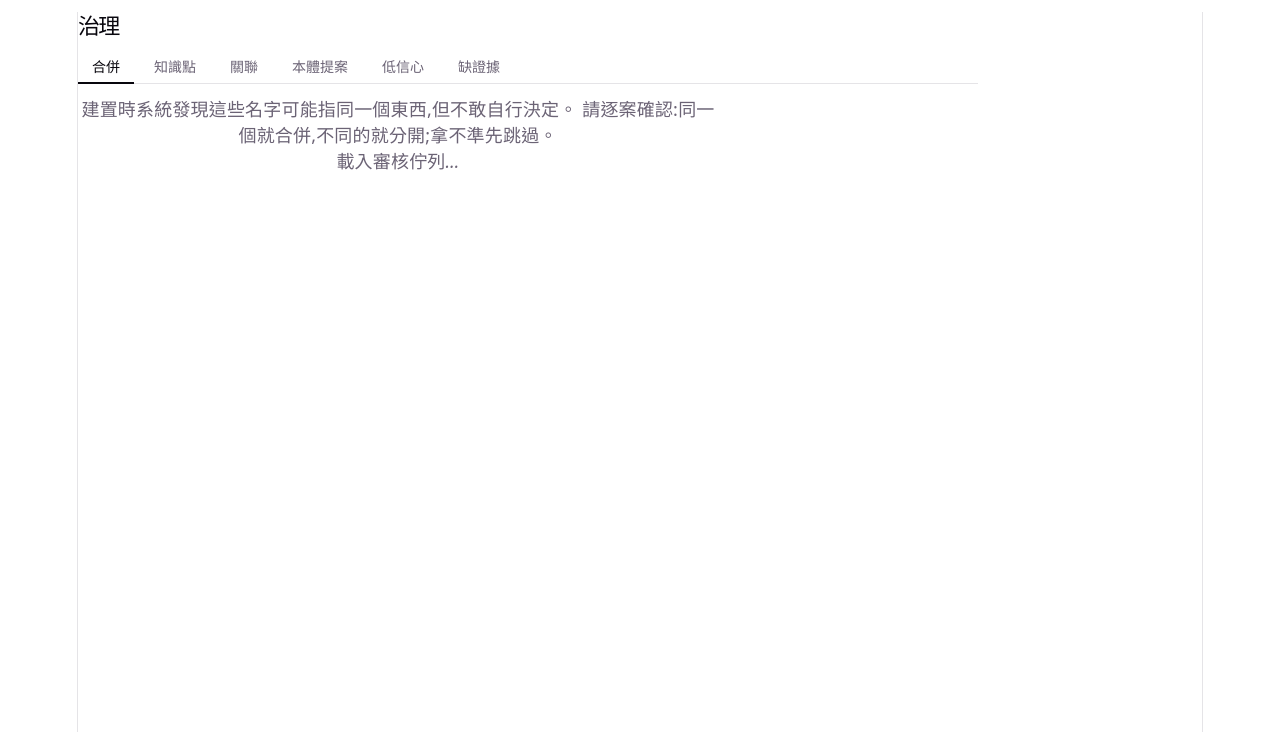
Test: ReviewQueue › lists needs_review relations on the 關聯 tab from /relations (GOV2-fe-2)
Click the tab "關聯" at (244, 67), box [216,50,272,84]
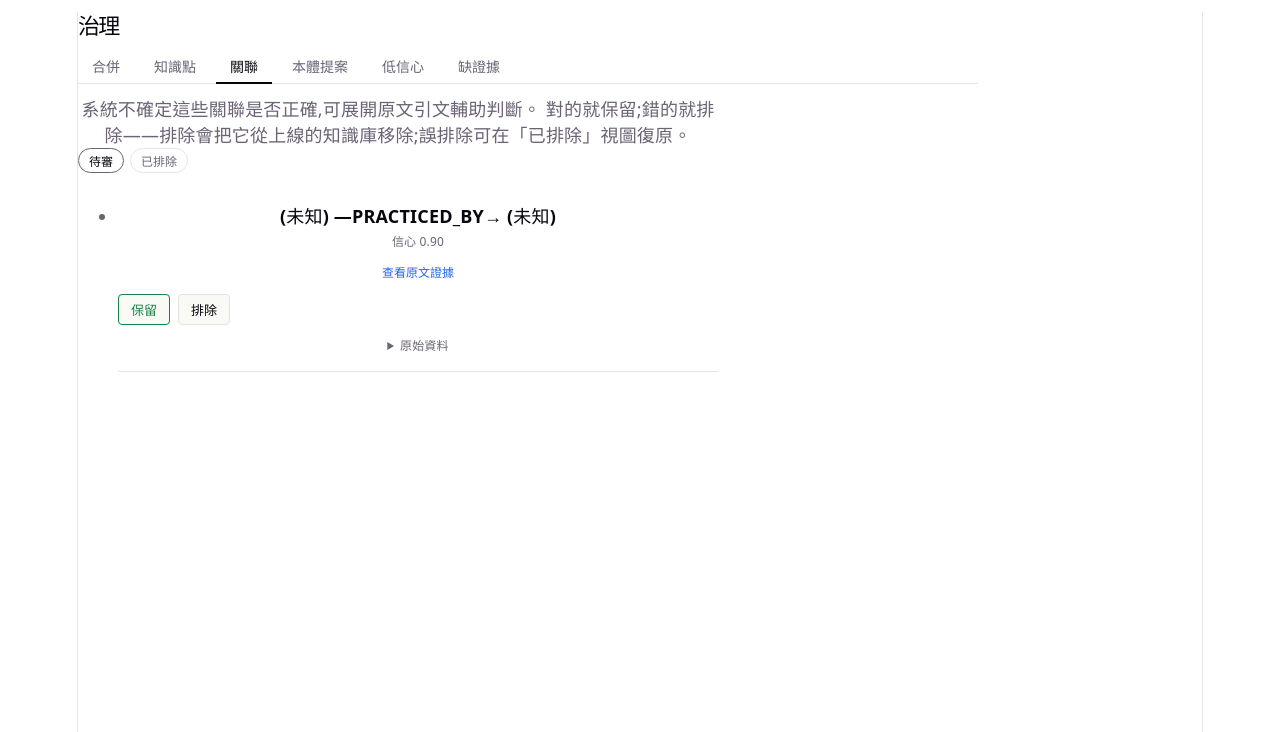
Result: the text "(未知) —PRACTICED_BY→ (未知)" is shown at [280,204,556,228]
Result: the button "查看原文證據" is shown at [382,264,454,280]
